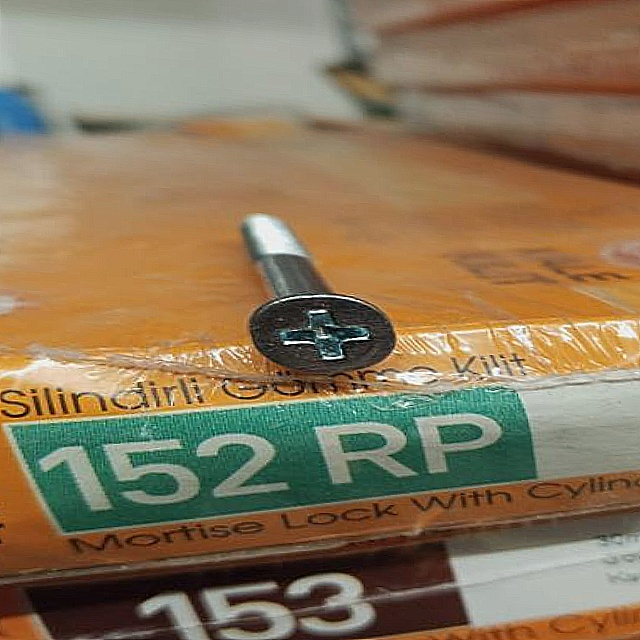phillips: (247, 291, 401, 379)
